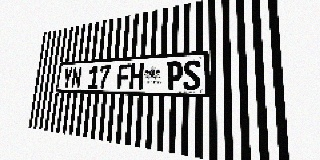1: (87, 66, 100, 89)
7: (98, 65, 111, 89)
F: (117, 64, 131, 89)
H: (129, 63, 144, 90)
N: (71, 67, 82, 89)
P: (166, 61, 183, 90)
S: (183, 59, 201, 90)
Y: (62, 67, 73, 88)
